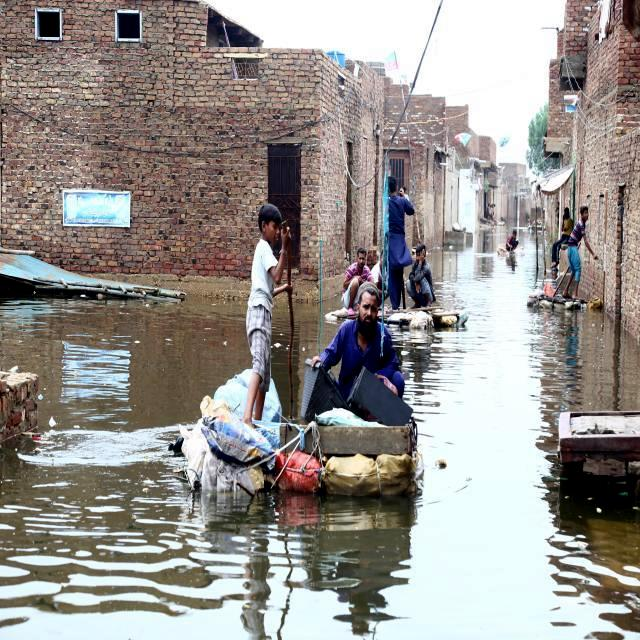civilian: (318, 282, 422, 424), (243, 198, 305, 431), (377, 171, 415, 317), (556, 199, 601, 302), (407, 235, 442, 308), (544, 194, 576, 272), (342, 244, 373, 306), (498, 225, 528, 259)
